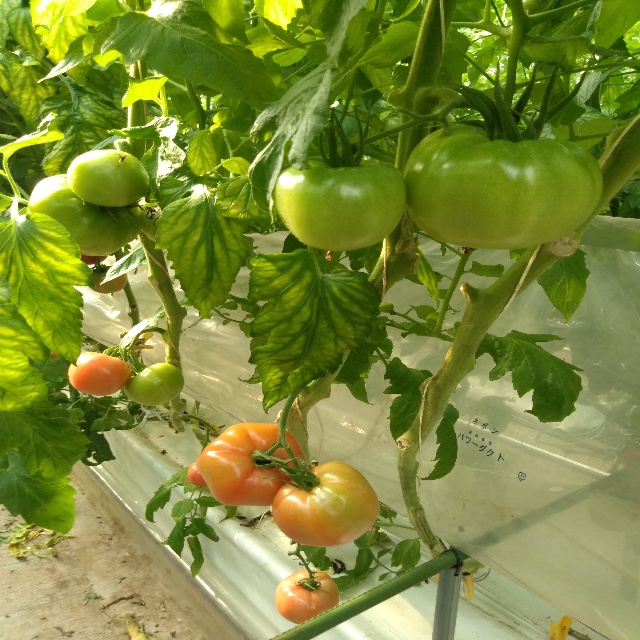b_fully_ripened: (67, 352, 132, 396)
b_green: (403, 124, 602, 250), (272, 155, 408, 251), (26, 174, 141, 256), (67, 150, 149, 208), (125, 363, 185, 406)
b_half_ripened: (196, 422, 306, 506), (272, 461, 379, 547), (274, 569, 339, 625), (89, 266, 128, 294)
